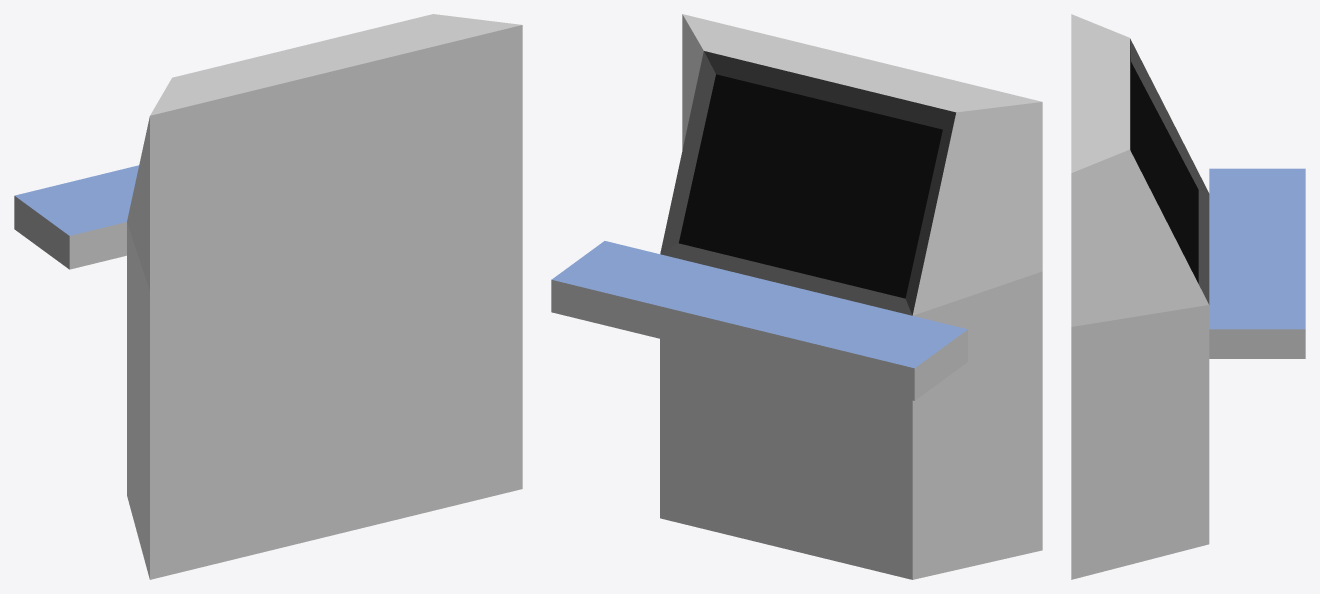
Rendered from ComputerBody 1.fbx.
The picture shows the model from 3 angles, left to right: view 1: azimuth 30°, elevation 25°; view 2: azimuth 150°, elevation 25°; view 3: azimuth 270°, elevation 25°; orthographic projection. The views are drawn at different scales.
Parts seen in each view (by area): view 1: Computer; view 2: Computer; view 3: Computer.
Part boxes in pixels (left/top/right/bottom): Computer: left=14, top=14, right=522, bottom=579; Computer: left=551, top=14, right=1042, bottom=579; Computer: left=1071, top=14, right=1305, bottom=579.
Bounding box in the file's own units: 177 × 209 × 109.
